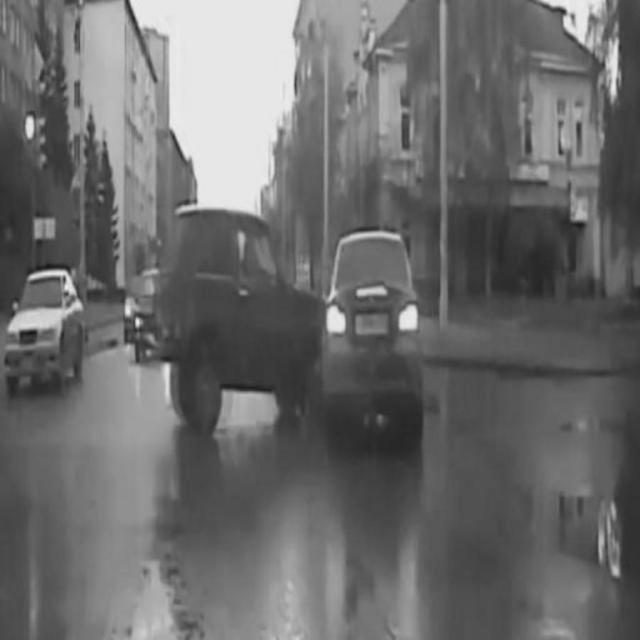accident: (159, 210, 429, 443)
vehicle: (6, 267, 88, 397)
